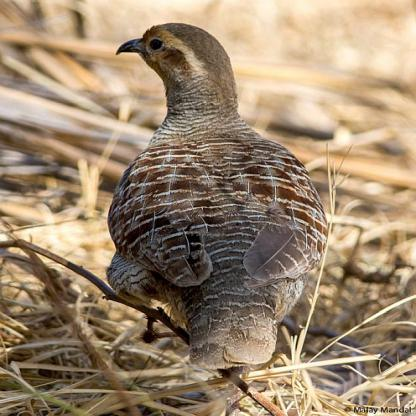Burung: (105, 22, 324, 368)
